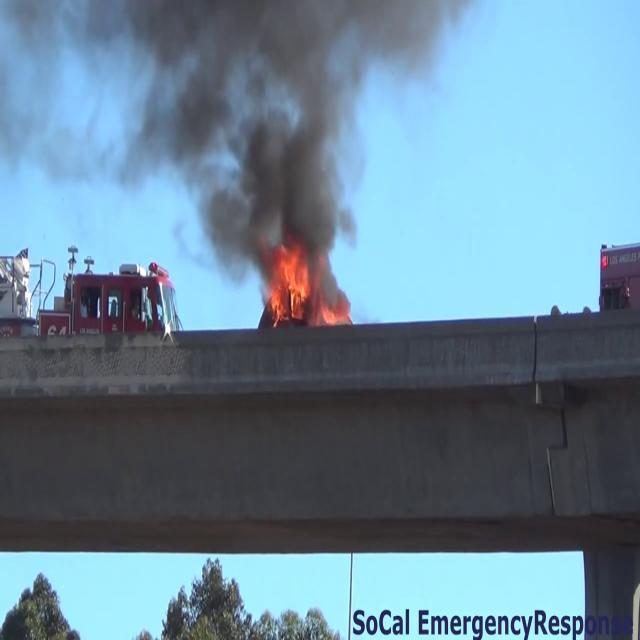Fire: (266, 244, 316, 326), (316, 286, 350, 328)
Smoke: (99, 0, 447, 261)
